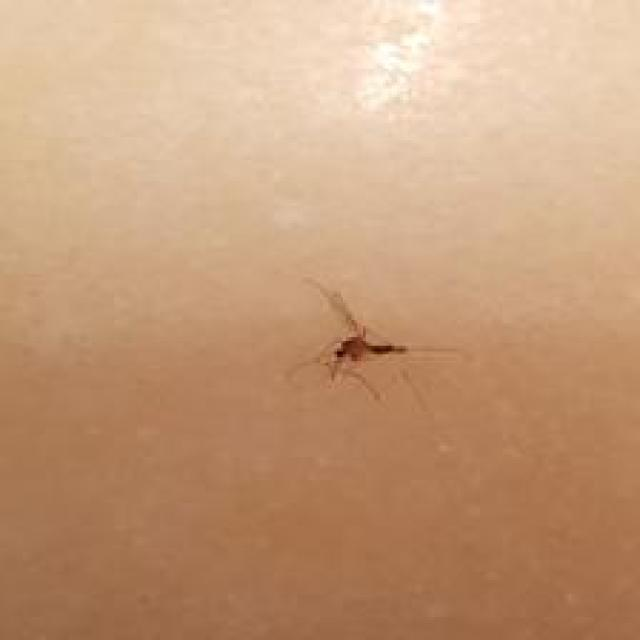Culex: (283, 276, 460, 407)
